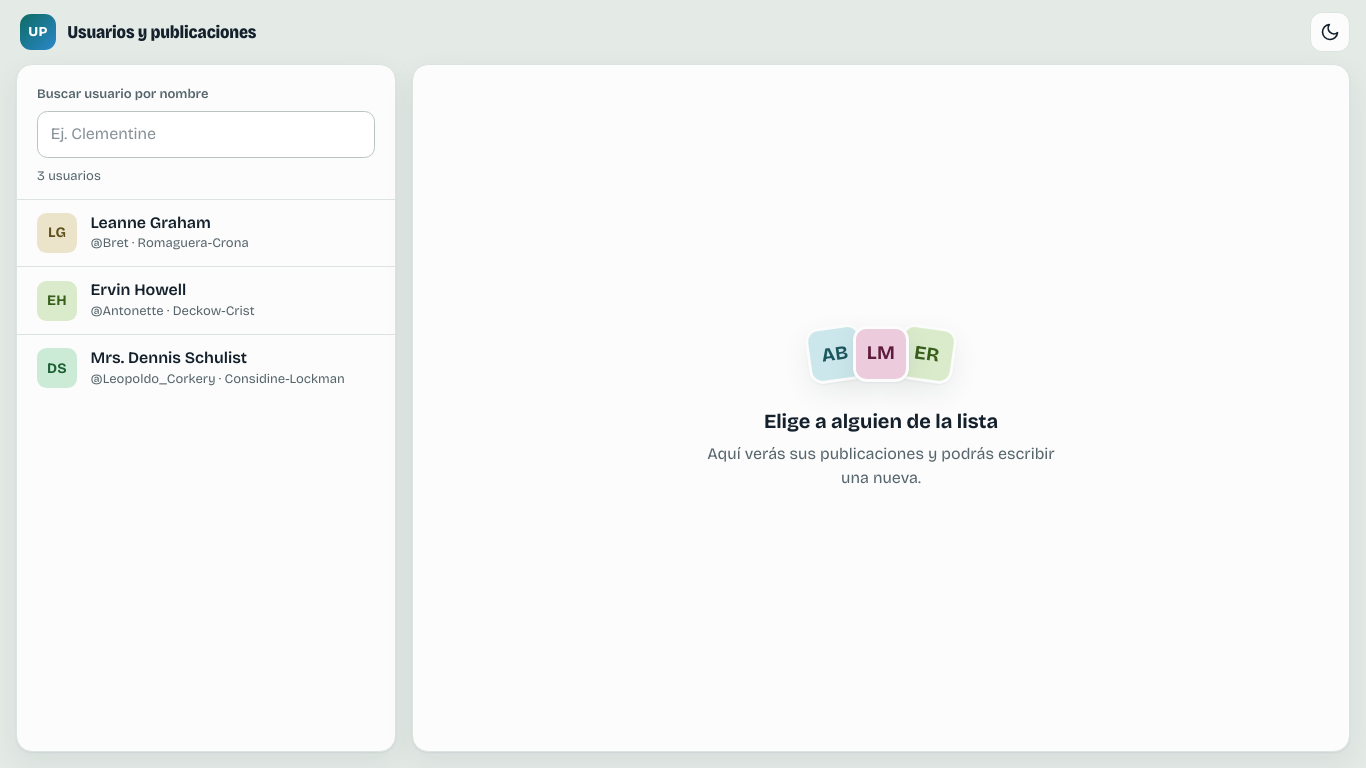
Test: App › carga las publicaciones del usuario elegido
Click the button "LG Leanne Graham @Bret · Romaguera-Crona".
click(206, 233)  # box [17, 200, 395, 266]
(page scrolled)
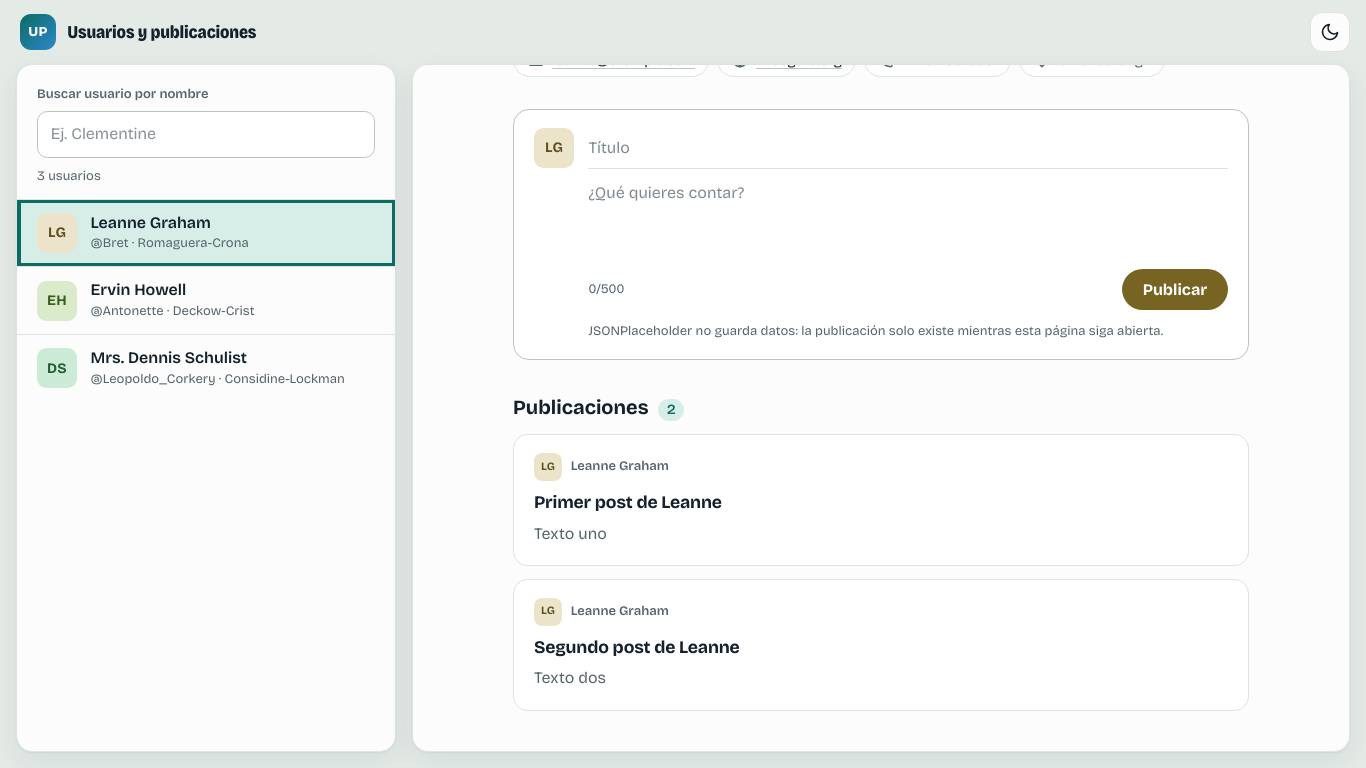
Now the heading "primer post de Leanne" is shown, box [534, 492, 722, 513]
Now the heading "segundo post de Leanne" is shown, box [534, 637, 740, 658]
